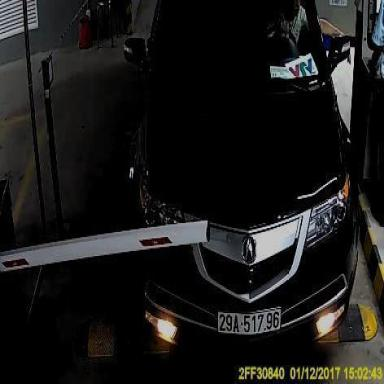License_Plate: (213, 303, 282, 334)
